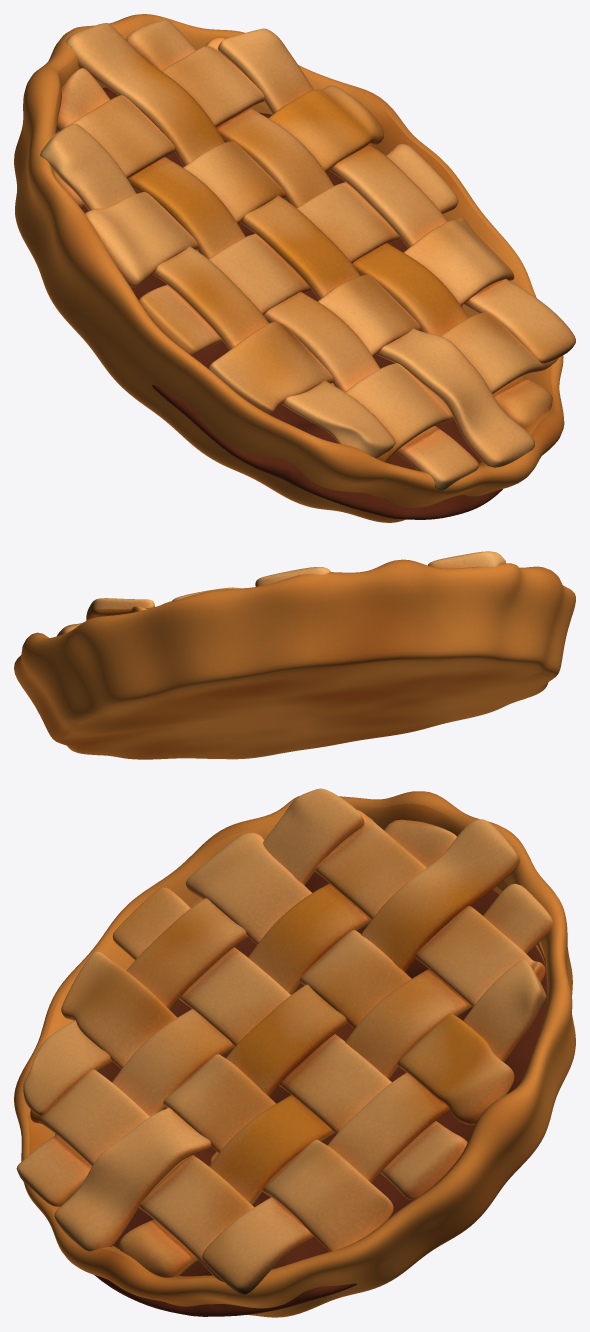
Rendered from ciasto.fbx.
3 views of the same model, one above another, from view 1: azimuth 30°, elevation 25°; view 2: azimuth 150°, elevation 25°; view 3: azimuth 270°, elevation 25° (orthographic). The views are drawn at different scales.
Parts seen in each view (by area): view 1: pie_cooked2, Cube; view 2: pie_cooked2; view 3: pie_cooked2, Cube.
Part boxes in pixels (left/top/right/bottom): pie_cooked2: left=14, top=14, right=575, bottom=522; Cube: left=56, top=87, right=502, bottom=519; pie_cooked2: left=14, top=551, right=575, bottom=759; pie_cooked2: left=14, top=788, right=575, bottom=1317; Cube: left=55, top=872, right=547, bottom=1316.
Bounding box in the file's own units: 113 × 81.27 × 111.
